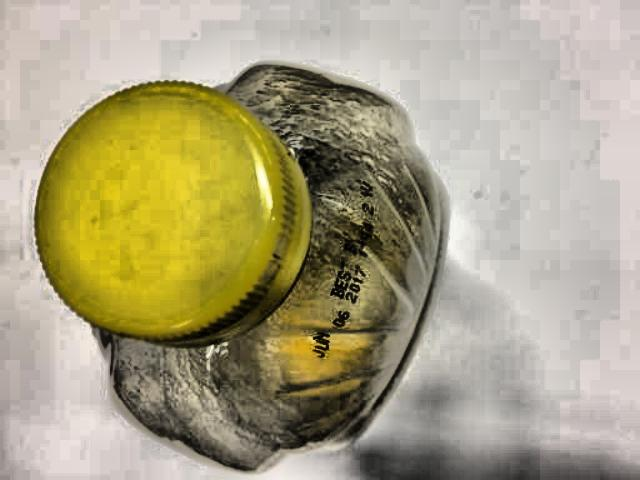Plastic: (36, 47, 478, 480)
